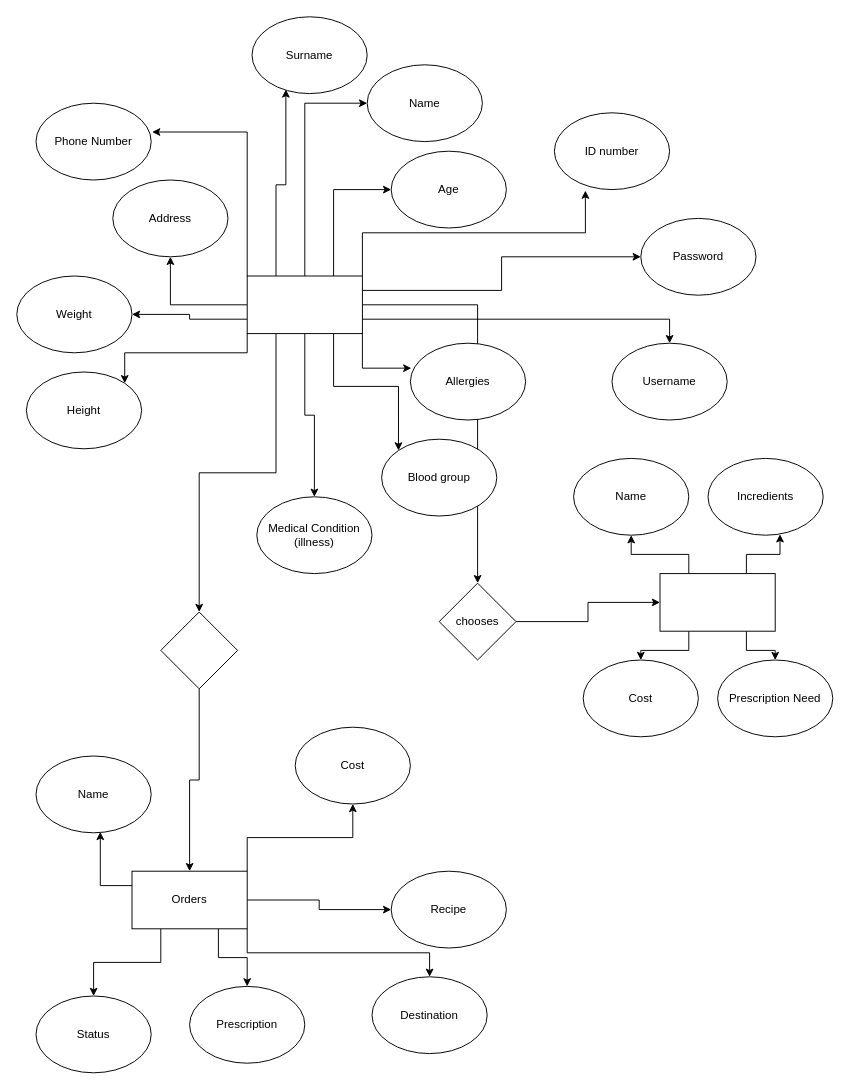
Image size: 850x1090. Some labels were removed from this diagram. Here are the shapes that lost their labels. From the top down, the centre of each, then its label:
the point at 304,304: Costumer
the point at 717,602: Product
the point at 199,650: makes
